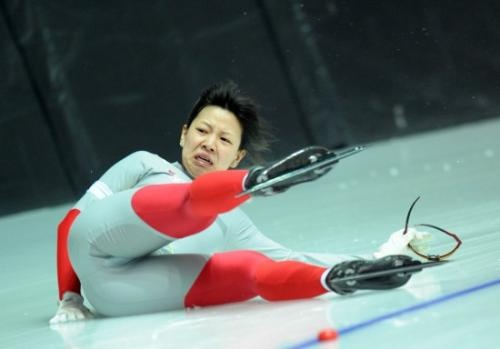falling: (31, 59, 430, 325)
